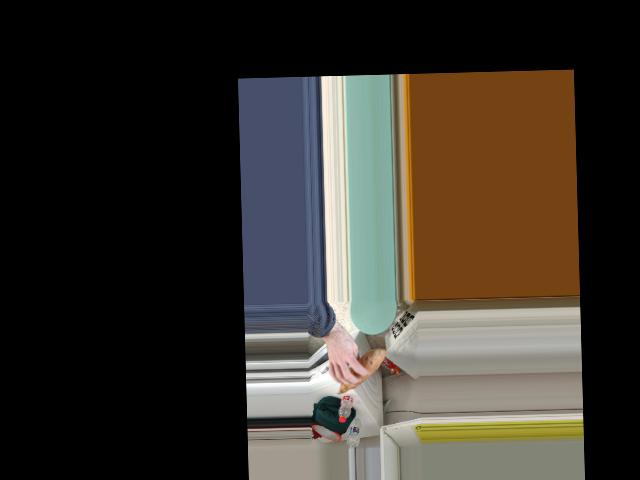sweet_potato: (333, 349, 384, 392)
